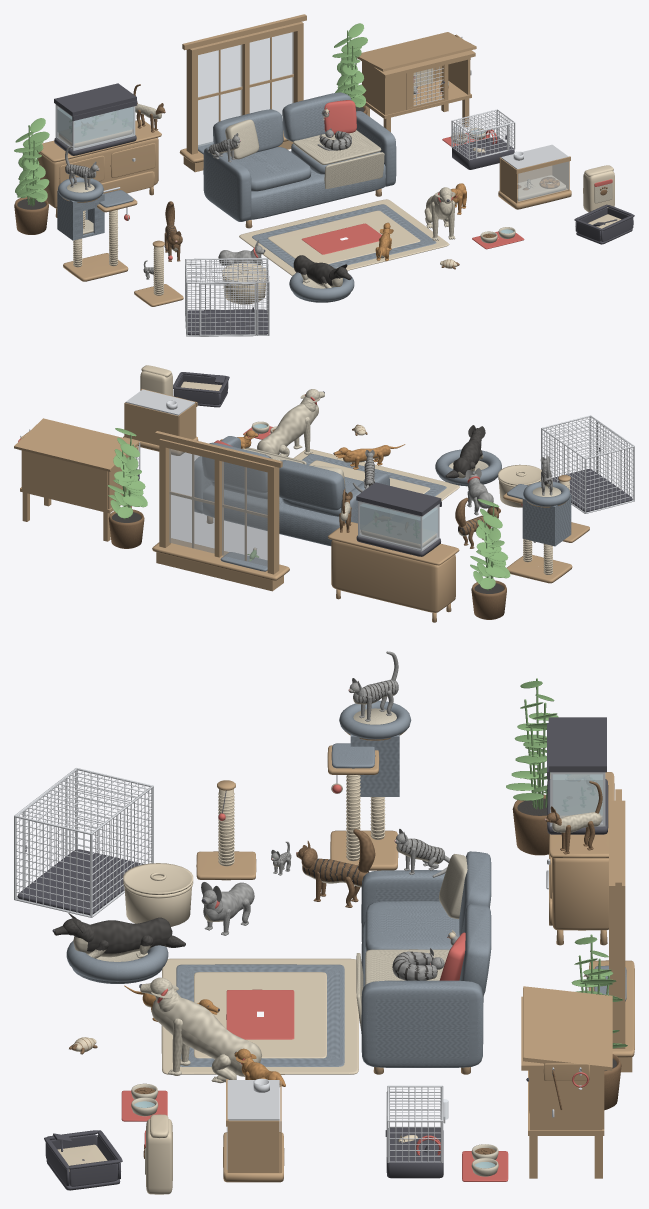
File: pets-and-companions-hd-front-room-with-p-dd1f51af-starter-scene__28185.glb
The picture shows the model from 3 angles, top to bottom: view 1: azimuth 30°, elevation 25°; view 2: azimuth 150°, elevation 25°; view 3: azimuth 270°, elevation 25°; orthographic projection. The views are drawn at different scales.
Visible parts, largest first — view 1: 001-sofa/0, 012-rabbit-hutch/0, 002-window-with-sill/1, 002-window-with-sill/0, 000-rug/0, 004-sideboard/0, 001-sofa/2, 009-dog-crate/1, 007-cat-tree/2, 005-aquarium/1, 000-rug/1, 015-vivarium/0 (+34 smaller); view 2: 001-sofa/0, 002-window-with-sill/0, 002-window-with-sill/1, 012-rabbit-hutch/0, 004-sideboard/0, 009-dog-crate/1, 005-aquarium/1, 007-cat-tree/2, 015-vivarium/0, 021-labrador-retriever-sitting/0, 005-aquarium/4, 006-houseplant/2 (+26 smaller); view 3: 001-sofa/0, 012-rabbit-hutch/0, 000-rug/0, 009-dog-crate/1, 004-sideboard/0, 002-window-with-sill/0, 021-labrador-retriever-sitting/0, 007-cat-tree/2, 000-rug/1, 009-dog-crate/0, 015-vivarium/0, 005-aquarium/hood/gloss (+32 smaller).
Part boxes in pixels (box(x1,y1,x2,y2)): 001-sofa/0: box(203, 92, 396, 221); 012-rabbit-hutch/0: box(357, 32, 476, 131); 002-window-with-sill/1: box(198, 32, 293, 146); 002-window-with-sill/0: box(179, 14, 306, 172); 000-rug/0: box(239, 199, 449, 275); 004-sideboard/0: box(38, 119, 161, 217); 001-sofa/2: box(225, 119, 384, 188); 009-dog-crate/1: box(185, 258, 269, 336); 007-cat-tree/2: box(57, 177, 133, 240); 005-aquarium/1: box(56, 106, 135, 150); 000-rug/1: box(252, 204, 436, 267); 015-vivarium/0: box(498, 156, 571, 209); 001-sofa/0: box(194, 436, 389, 546); 002-window-with-sill/0: box(152, 431, 289, 591); 002-window-with-sill/1: box(169, 449, 267, 566); 012-rabbit-hutch/0: box(14, 418, 139, 541); 004-sideboard/0: box(328, 522, 459, 622); 009-dog-crate/1: box(541, 415, 634, 513); 005-aquarium/1: box(358, 501, 438, 551); 007-cat-tree/2: box(507, 481, 571, 546); 015-vivarium/0: box(123, 389, 198, 455); 021-labrador-retriever-sitting/0: box(257, 389, 324, 456); 005-aquarium/4: box(360, 503, 437, 543); 006-houseplant/2: box(470, 499, 510, 590); 001-sofa/0: box(361, 851, 491, 1067); 012-rabbit-hutch/0: box(521, 986, 612, 1178); 000-rug/0: box(161, 958, 359, 1074); 009-dog-crate/1: box(14, 768, 153, 917); 004-sideboard/0: box(549, 772, 614, 945); 002-window-with-sill/0: box(588, 789, 634, 1072); 021-labrador-retriever-sitting/0: box(140, 977, 261, 1083); 007-cat-tree/2: box(331, 700, 411, 796); 000-rug/1: box(176, 964, 344, 1066); 009-dog-crate/0: box(17, 849, 143, 915); 015-vivarium/0: box(223, 1079, 284, 1182); 005-aquarium/hood/gloss: box(547, 717, 606, 779).
Size of the model in its own units: 6.39 by 1.57 by 4.56.
15 materials, 6 textured.
